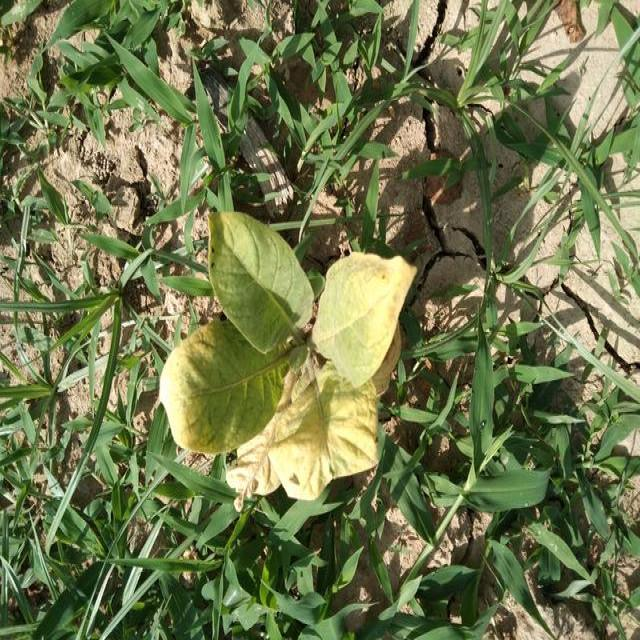crop: (164, 203, 418, 500)
